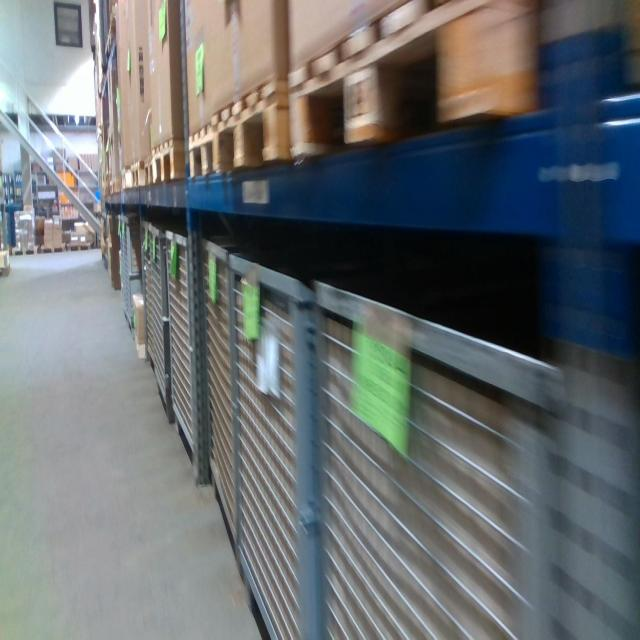pallet: (288, 33, 540, 163), (212, 75, 289, 180), (152, 137, 186, 187), (187, 116, 212, 180), (131, 154, 143, 195), (12, 243, 39, 259), (120, 160, 132, 193), (67, 241, 93, 256), (40, 242, 65, 256), (144, 150, 152, 193), (113, 175, 120, 197), (108, 179, 112, 203)
stillage: (312, 269, 556, 636), (230, 240, 315, 640), (554, 326, 639, 636), (200, 222, 243, 571), (164, 223, 210, 493), (121, 206, 160, 342), (153, 220, 176, 431), (144, 214, 160, 375), (118, 207, 127, 328)
